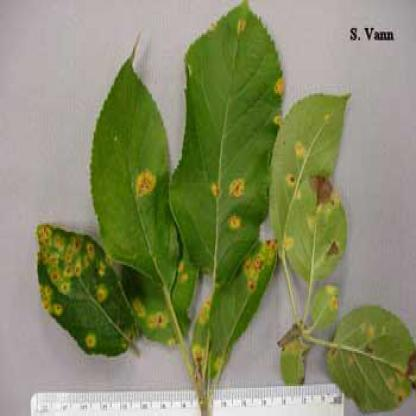Apple rust leaf: (165, 2, 289, 300), (84, 47, 188, 306), (272, 81, 358, 309), (27, 216, 136, 365), (318, 301, 414, 412)
